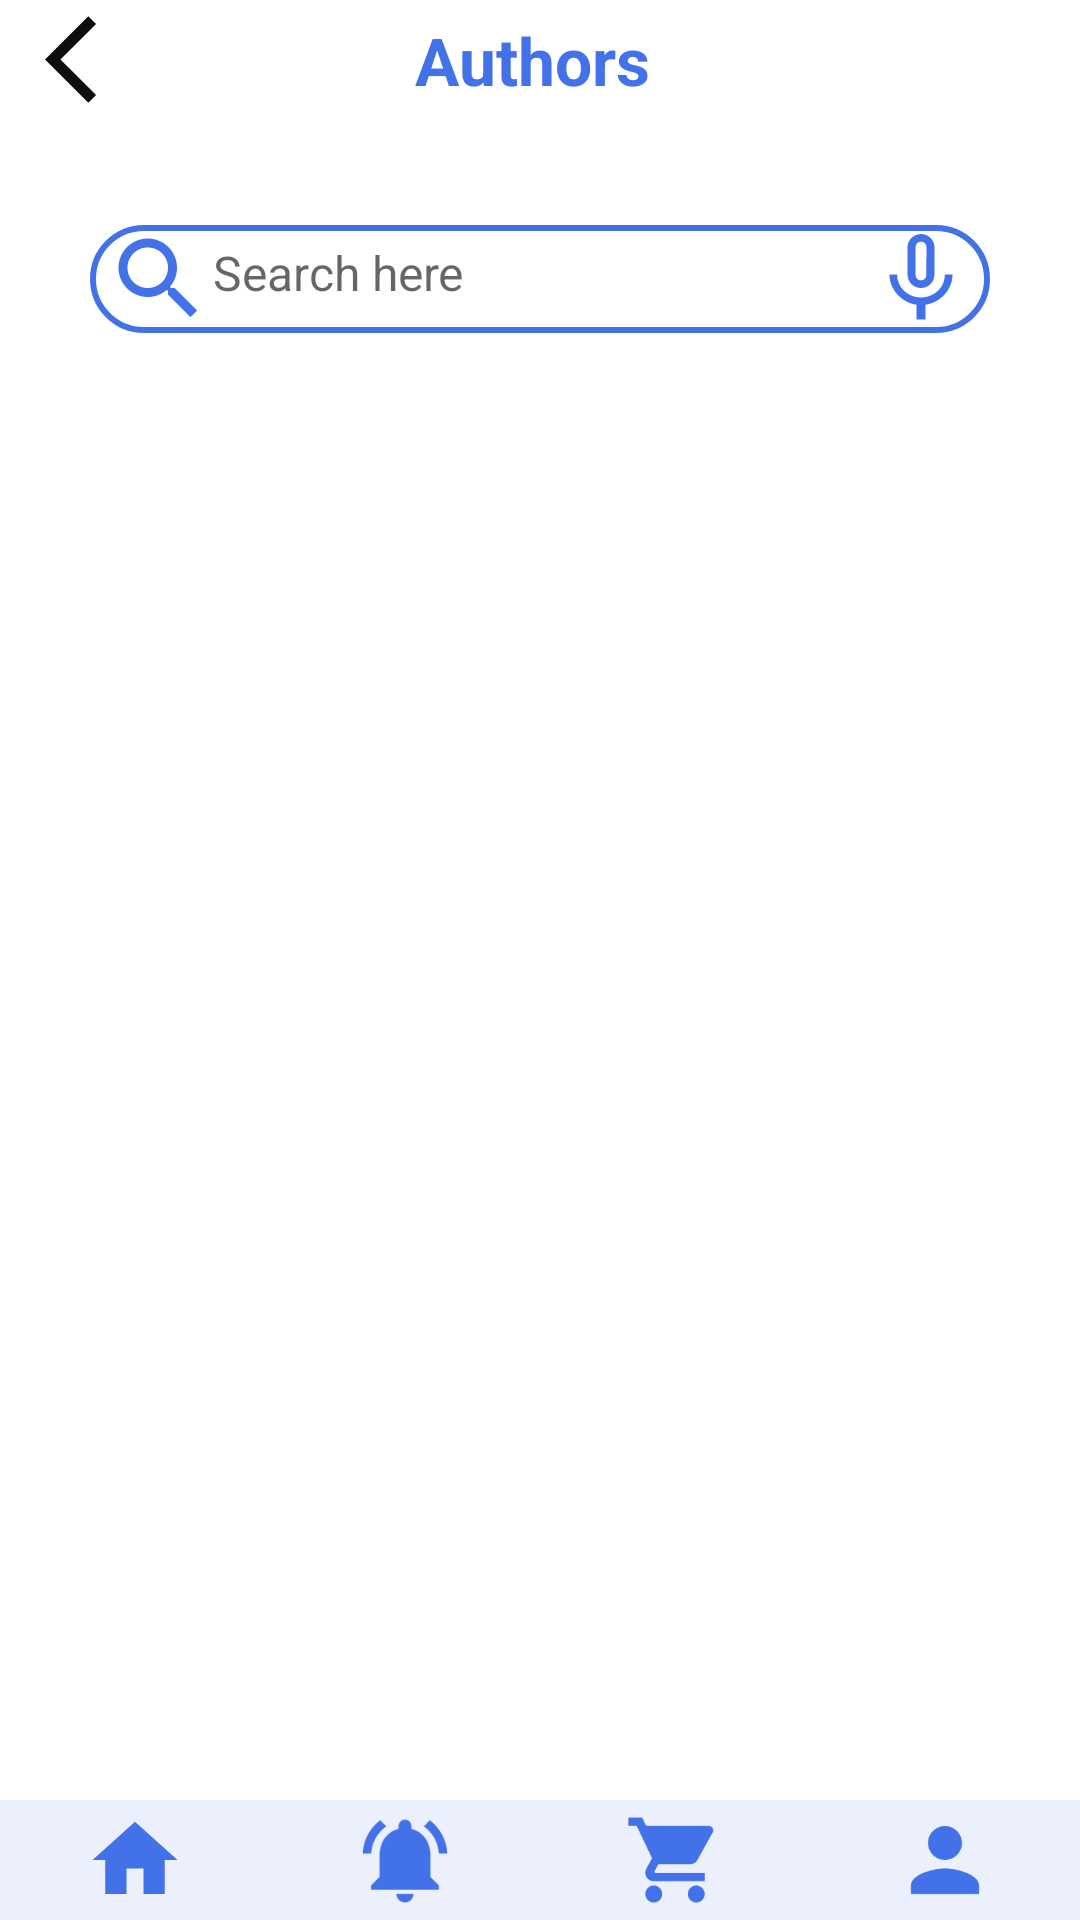

Where to tap for icons on this 1080 × 1920 app screen, as [x,y]:
cart: [671,1860]
home: [135,1858]
notifications: [405,1861]
person: [945,1860]
